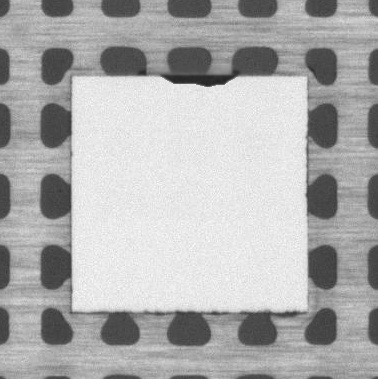DIE_BROKEN: (157, 70, 243, 89)
